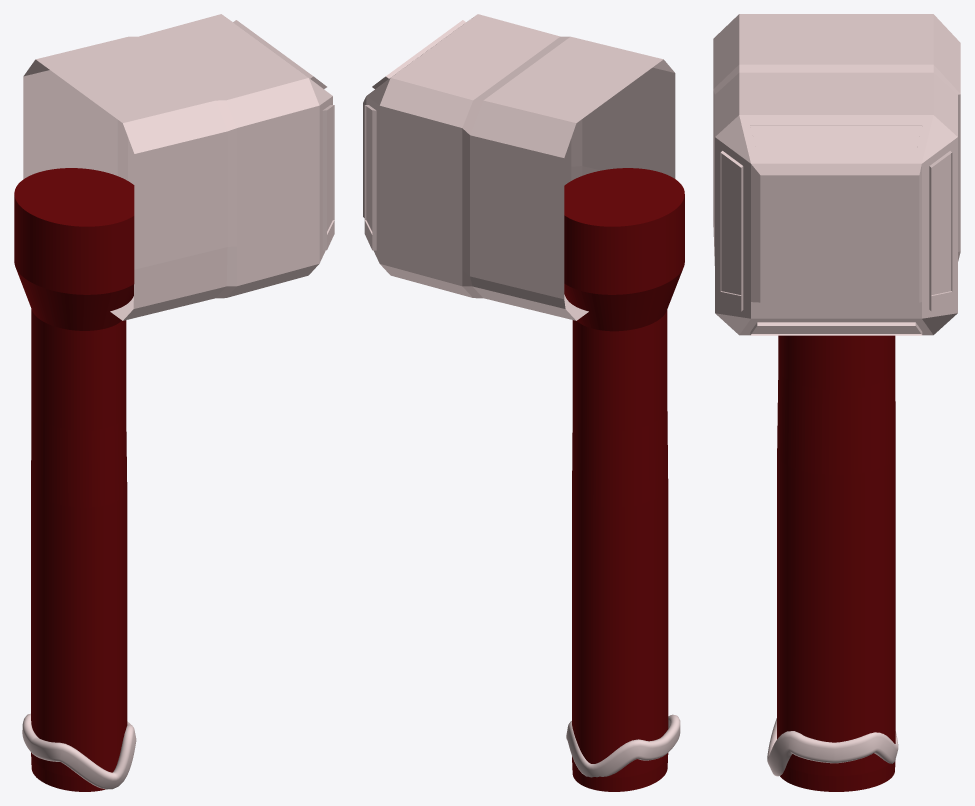
File: mjolnir_2-D.glb
The picture shows the model from 3 angles, left to right: view 1: azimuth 30°, elevation 25°; view 2: azimuth 150°, elevation 25°; view 3: azimuth 270°, elevation 25°; orthographic projection. The views are drawn at different scales.
Visible parts, largest first — view 1: Cube, Cylinder, BezierCircle; view 2: Cube, Cylinder, BezierCircle; view 3: Cube, Cylinder, BezierCircle.
Part boxes in pixels (x1,y1,x2,y2): Cube: (23,14,334,320); Cylinder: (14,168,134,791); BezierCircle: (22,713,136,789); Cube: (363,14,675,320); Cylinder: (564,168,684,791); BezierCircle: (566,714,680,777); Cube: (713,14,960,335); Cylinder: (777,335,895,791); BezierCircle: (767,718,898,776).
Size of the model in its own units: 2.9 by 6.88 by 2.04.
